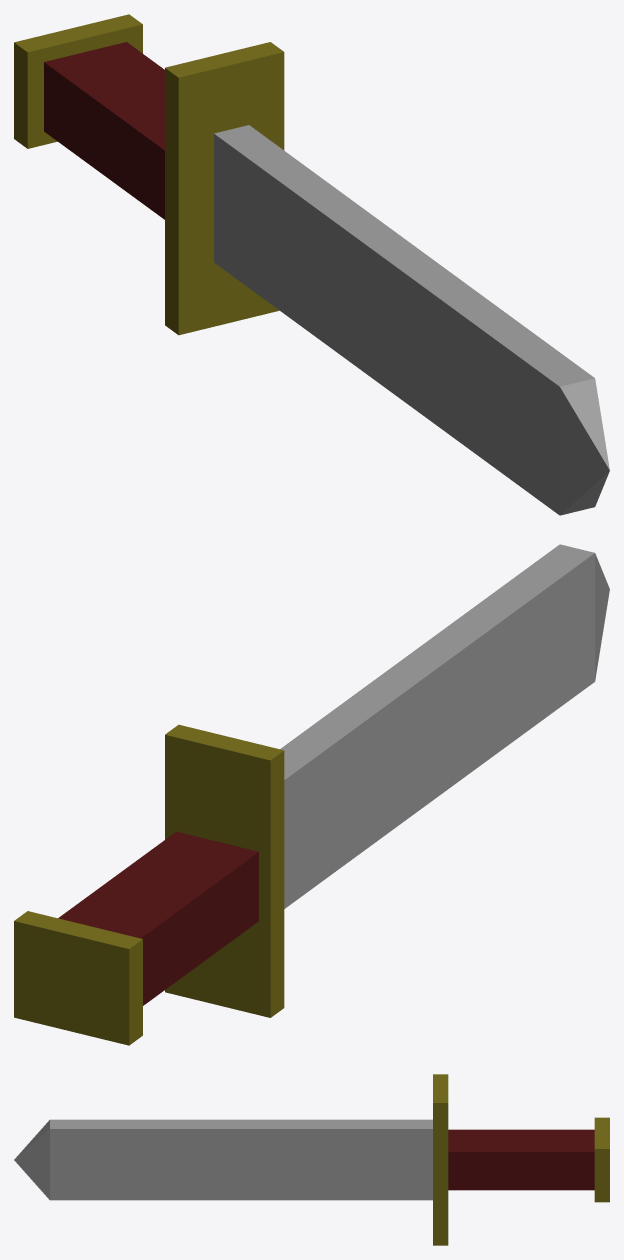
Rendered from sword.fbx.
3 views of the same model, one above another, from view 1: azimuth 30°, elevation 25°; view 2: azimuth 150°, elevation 25°; view 3: azimuth 270°, elevation 25° (orthographic). The views are drawn at different scales.
Visible parts, largest first — view 1: Cube.001; view 2: Cube.001; view 3: Cube.001.
Part boxes in pixels (bbox=[...]): Cube.001: bbox=[14, 14, 609, 515]; Cube.001: bbox=[14, 544, 609, 1045]; Cube.001: bbox=[14, 1074, 609, 1245].
Bounding box in the file's own units: 8.05 × 17.19 × 65.14.
